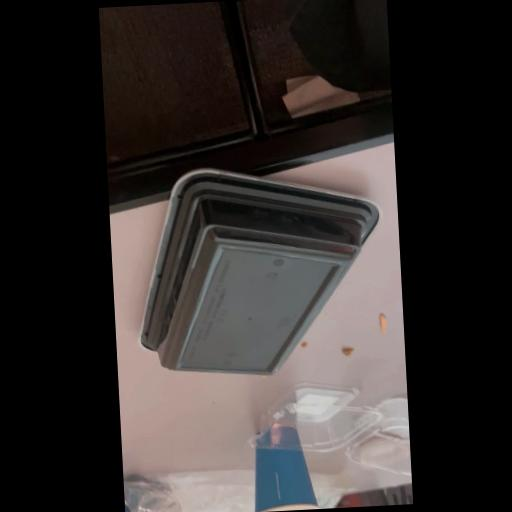rigid_plastic_container: (132, 165, 386, 381)
